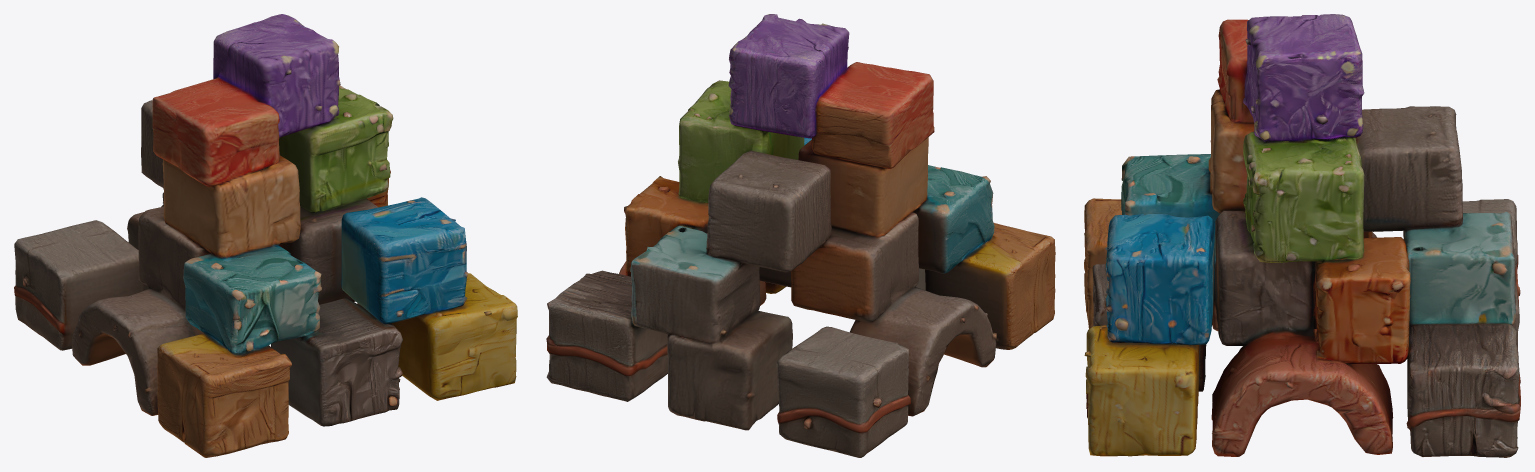
The picture shows the model from 3 angles, left to right: view 1: azimuth 30°, elevation 25°; view 2: azimuth 150°, elevation 25°; view 3: azimuth 270°, elevation 25°; orthographic projection. The views are drawn at different scales.
Visible parts, largest first — view 1: tripo_node_1445df58-c618-4bb8-b896-fc0f5d626e8e; view 2: tripo_node_1445df58-c618-4bb8-b896-fc0f5d626e8e; view 3: tripo_node_1445df58-c618-4bb8-b896-fc0f5d626e8e.
Boxes of the visible parts, x1,y1,x2,y2 form: tripo_node_1445df58-c618-4bb8-b896-fc0f5d626e8e: [14, 14, 517, 457]; tripo_node_1445df58-c618-4bb8-b896-fc0f5d626e8e: [546, 14, 1055, 457]; tripo_node_1445df58-c618-4bb8-b896-fc0f5d626e8e: [1084, 14, 1520, 457].
Bounding box in the file's own units: 0.9441 × 0.8759 × 1.
1 material, 1 textured.
